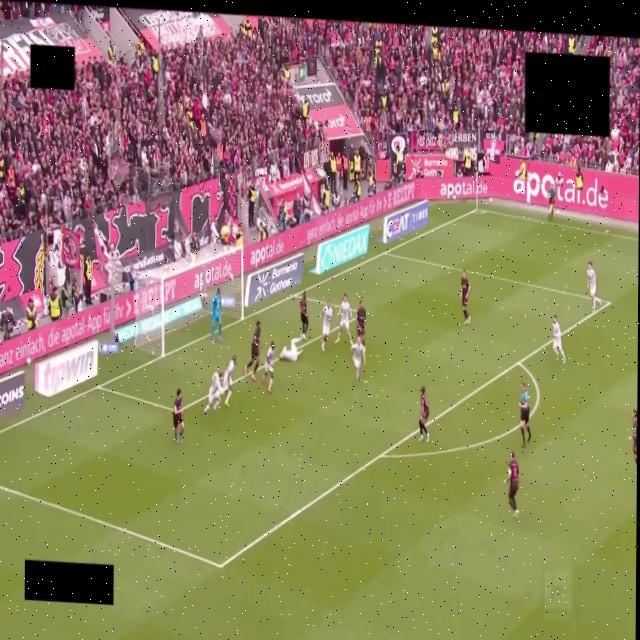player: (244, 320, 261, 381), (505, 452, 519, 518), (204, 373, 223, 416), (336, 294, 352, 344), (587, 262, 601, 310), (210, 288, 222, 343), (321, 299, 333, 352), (553, 315, 566, 363), (223, 356, 235, 407), (352, 337, 365, 384), (263, 342, 275, 392), (419, 385, 429, 442), (174, 389, 184, 442), (279, 339, 302, 362), (461, 271, 470, 325), (357, 301, 366, 346), (300, 292, 308, 340), (631, 410, 636, 464)
referee: (519, 383, 531, 447)
